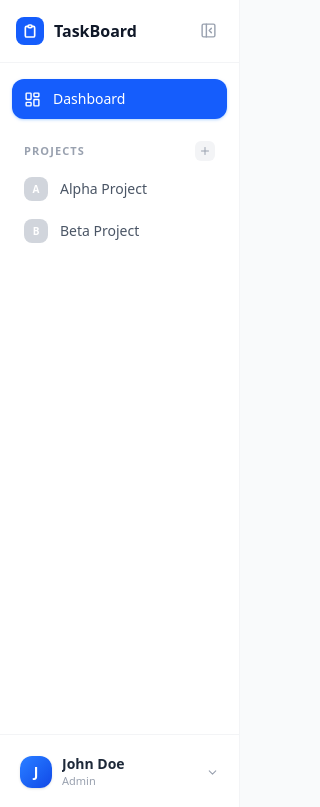
Scenario: Sidebar › collapses sidebar when toggle button clicked
Step 1. Click the button without text next to "TaskBoard" → (208, 30), box [194,16,223,45]
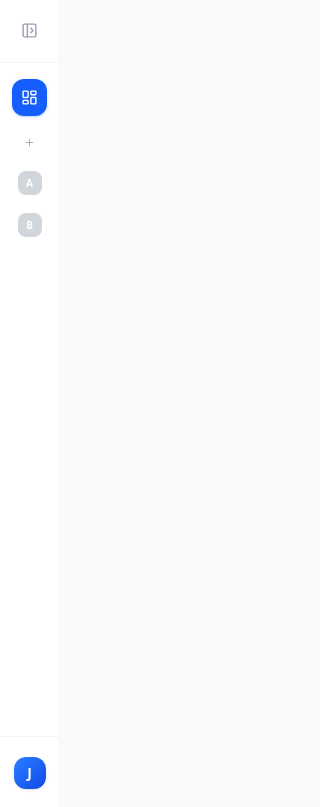
Expected: the text "TaskBoard" is gone
